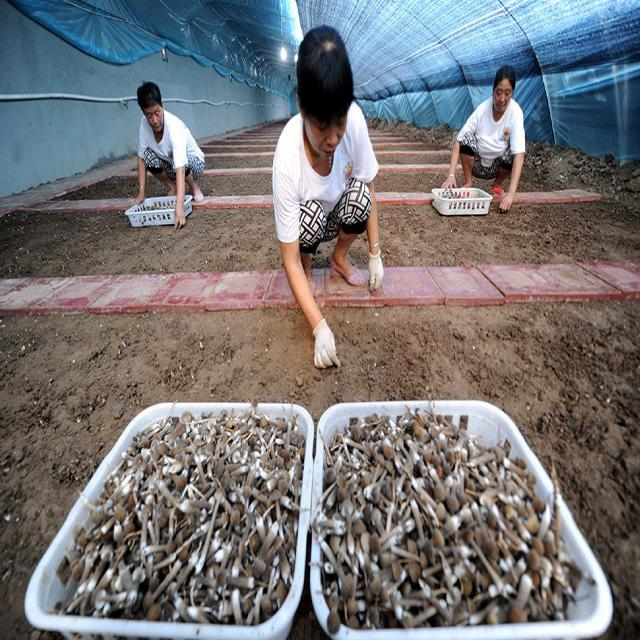Collybia albuminosa: (328, 411, 591, 628), (72, 409, 306, 617)
